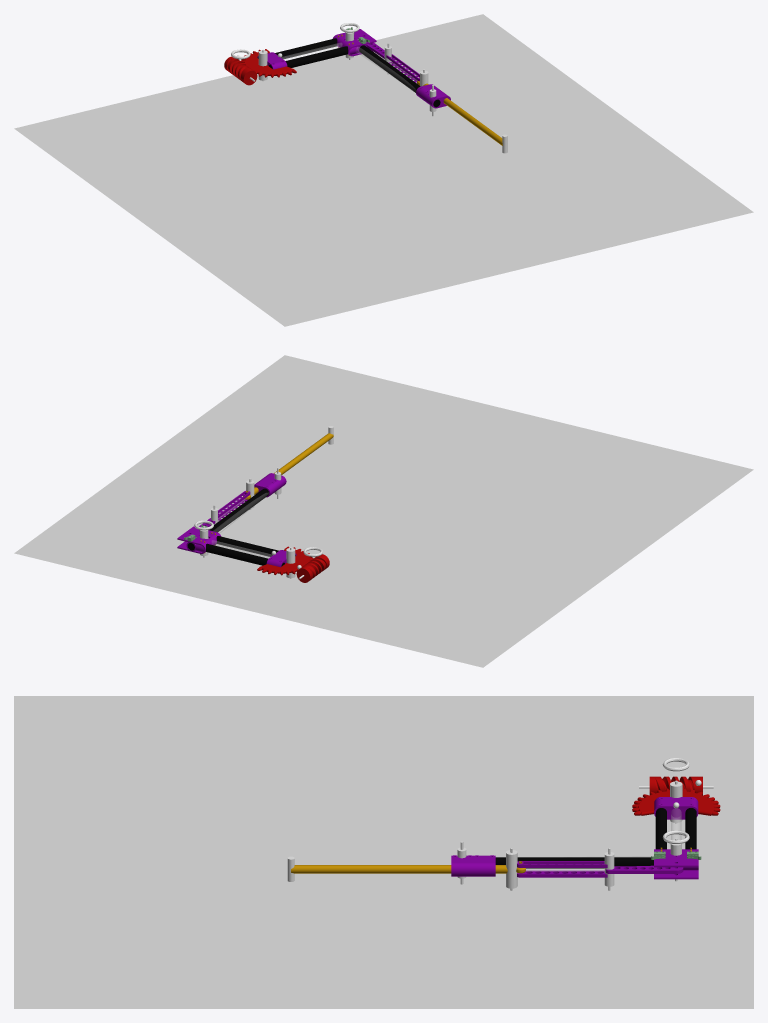
The model's file is Test_Mesh_Leg_6-23-2026_physics.glb.
3 views of the same model, one above another, from view 1: azimuth 30°, elevation 25°; view 2: azimuth 150°, elevation 25°; view 3: azimuth 270°, elevation 25° (orthographic). The views are drawn at different scales.
Parts seen in each view (by area): view 1: snapshot_ground, joint_fixed_upper_carrier_black_rod_hold, joint_red_worm_wheel_axis, Mesh_12, joint_red_worm_shaft_spin; view 2: snapshot_ground, joint_fixed_upper_carrier_black_rod_hold, joint_red_worm_wheel_axis, Mesh_13, joint_red_worm_shaft_spin; view 3: snapshot_ground, joint_fixed_upper_carrier_black_rod_hold, joint_yellow_piston_rod_pulled_by_leg, joint_purple_hinge_driver, joint_red_worm_wheel_axis, Mesh_11, joint_red_worm_shaft_spin.
Boxes of the visible parts, bbox=[...] form: snapshot_ground: bbox=[14, 14, 753, 326]; joint_fixed_upper_carrier_black_rod_hold: bbox=[332, 29, 450, 108]; joint_red_worm_wheel_axis: bbox=[240, 49, 296, 77]; Mesh_12: bbox=[269, 46, 347, 68]; joint_red_worm_shaft_spin: bbox=[224, 56, 257, 85]; snapshot_ground: bbox=[14, 355, 753, 667]; joint_fixed_upper_carrier_black_rod_hold: bbox=[177, 473, 286, 553]; joint_red_worm_wheel_axis: bbox=[257, 546, 313, 575]; Mesh_13: bbox=[206, 543, 284, 566]; joint_red_worm_shaft_spin: bbox=[296, 554, 329, 582]; snapshot_ground: bbox=[14, 696, 753, 1008]; joint_fixed_upper_carrier_black_rod_hold: bbox=[451, 847, 698, 879]; joint_yellow_piston_rod_pulled_by_leg: bbox=[291, 865, 507, 873]; joint_purple_hinge_driver: bbox=[516, 861, 607, 877]; joint_red_worm_wheel_axis: bbox=[632, 788, 720, 815]; Mesh_11: bbox=[654, 797, 698, 819]; joint_red_worm_shaft_spin: bbox=[649, 776, 702, 795].
Size of the model in its own units: 0.832 by 0.0812 by 0.832.
